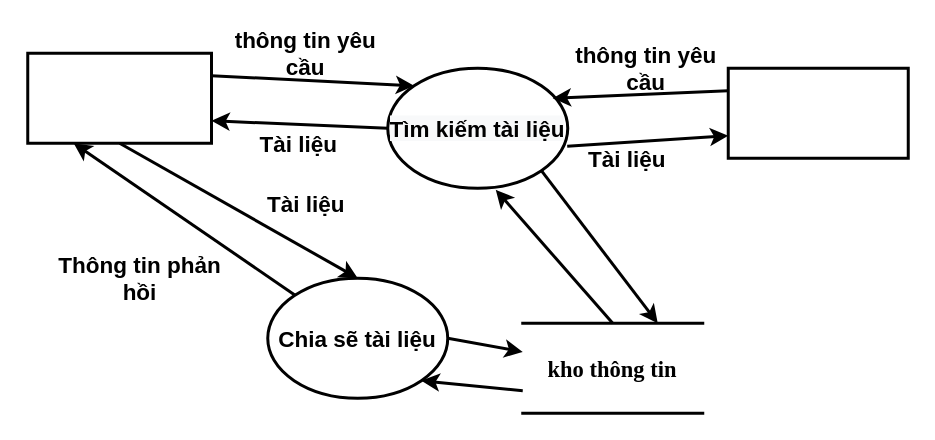
This 935x440 diagram has some shape labels left out. The centre of each missing label's shape, as x and y in pixels:
Giảng viên: pixel 119 97
Sinh viên: pixel 817 112
